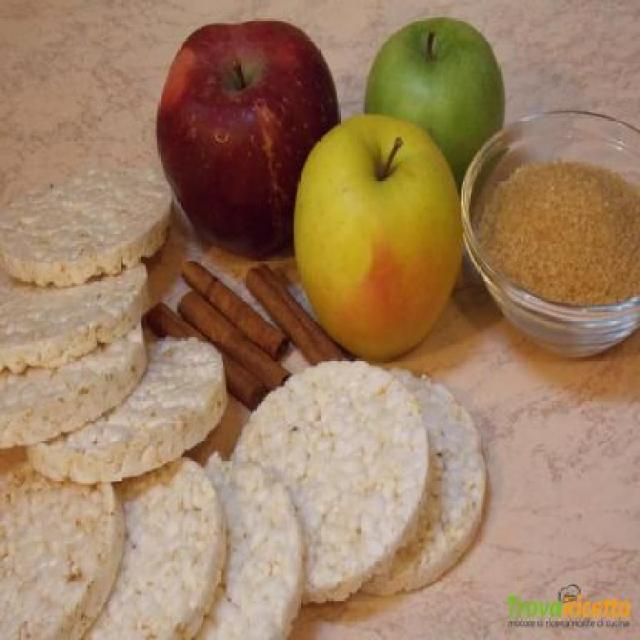Apple pie: (292, 114, 466, 366), (149, 28, 345, 244)
Gallette di riso packaged: (230, 363, 428, 602), (5, 463, 124, 640), (5, 162, 172, 280)
